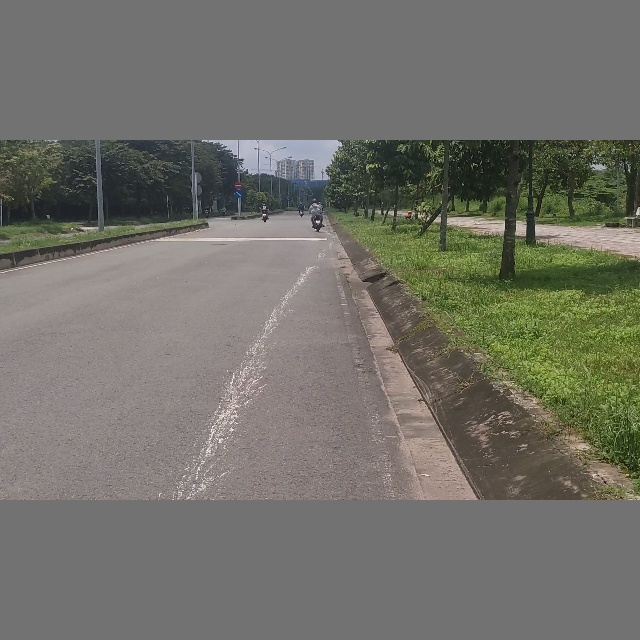P.102: (234, 182, 242, 189)
R.302a: (235, 190, 243, 198)
